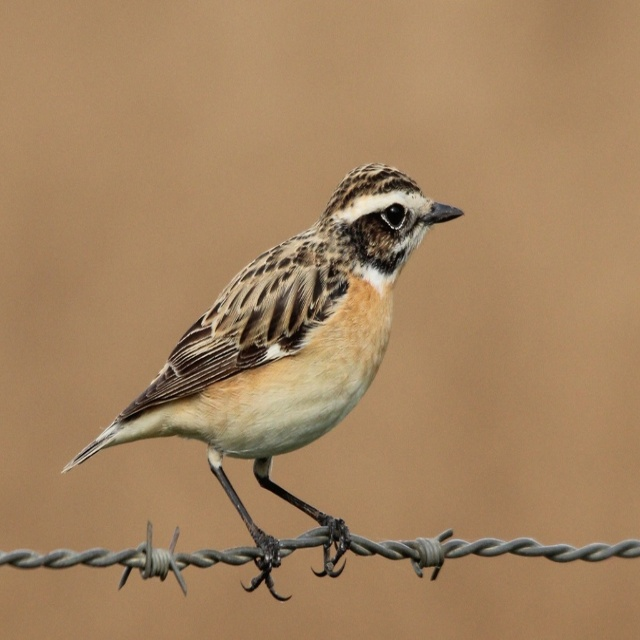Sparrow: (59, 164, 464, 604)
